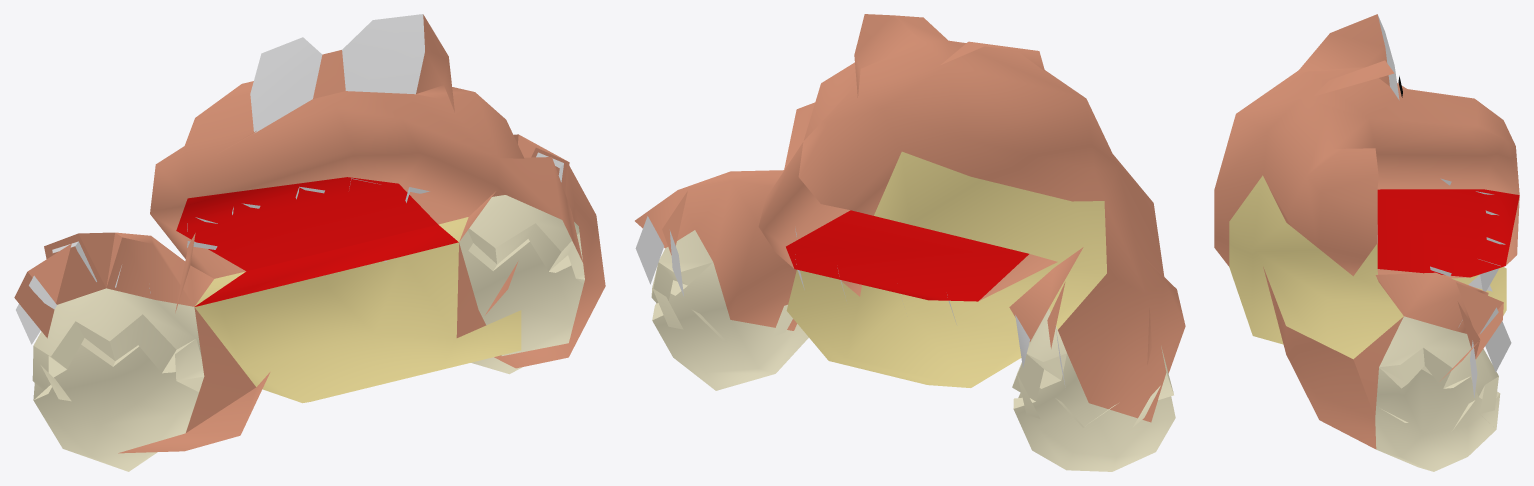
The model's file is ps2_save-icons_pachinkosaurus.glb.
3 renders of one model, left to right at view 1: azimuth 30°, elevation 25°; view 2: azimuth 150°, elevation 25°; view 3: azimuth 270°, elevation 25°, orthographic. The views are drawn at different scales.
Parts seen in each view (by area): view 1: dz_icon.ico; view 2: dz_icon.ico; view 3: dz_icon.ico.
Part boxes in pixels (<box>): dz_icon.ico: <box>14,14,605,471</box>; dz_icon.ico: <box>635,14,1185,471</box>; dz_icon.ico: <box>1214,14,1519,471</box>.
Bounding box in the file's own units: 4.27 × 2.94 × 2.4.
1 material, 1 textured.
